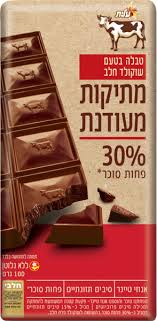Chocolate: (1, 1, 157, 318)
